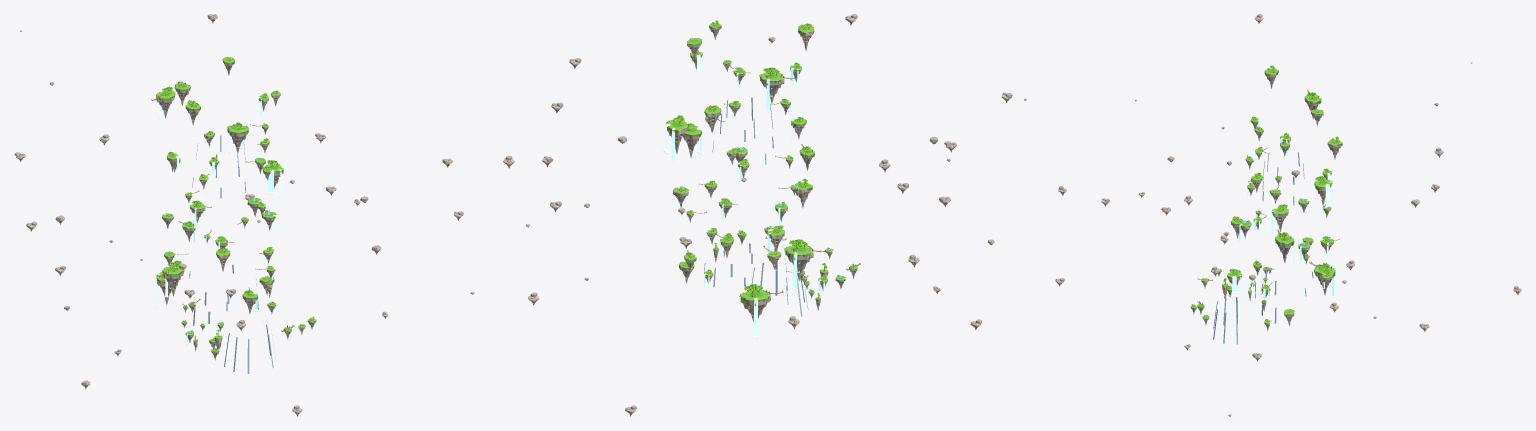
The model's file is TowerOfPets_FloatingIslands.fbx.
3 renders of one model, left to right at view 1: azimuth 30°, elevation 25°; view 2: azimuth 150°, elevation 25°; view 3: azimuth 270°, elevation 25°, orthographic. The views are drawn at different scales.
Size of the model in its own units: 428790 by 254254 by 434197.
